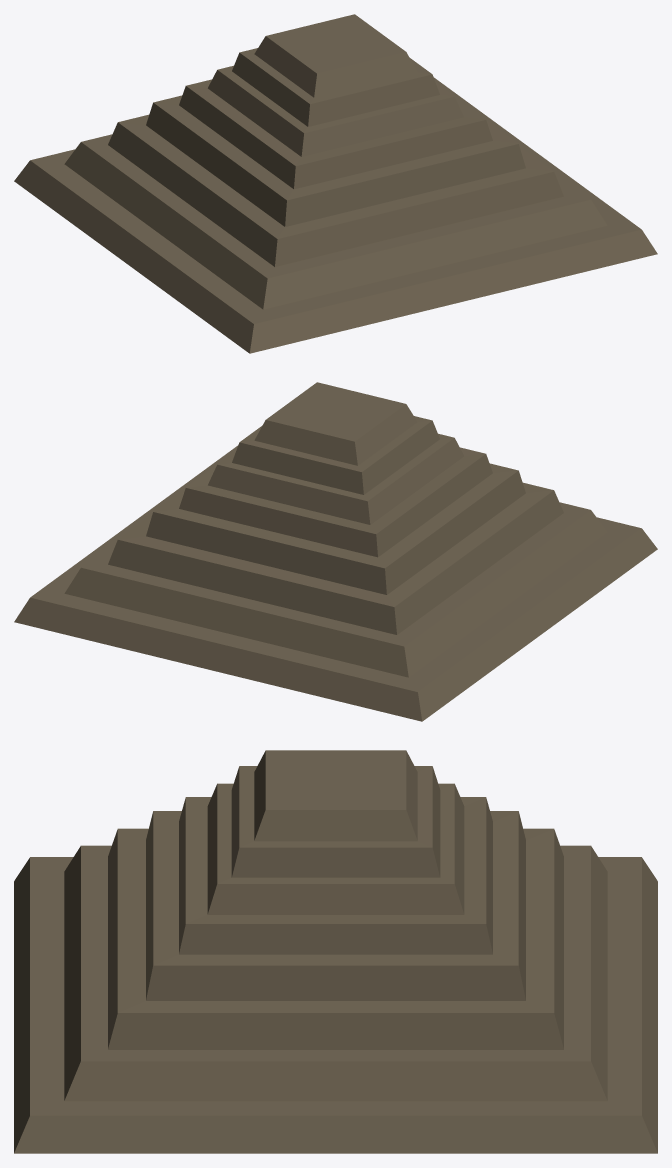
File: Tapnaktest2.fbx
The picture shows the model from 3 angles, top to bottom: view 1: azimuth 30°, elevation 25°; view 2: azimuth 150°, elevation 25°; view 3: azimuth 270°, elevation 25°; orthographic projection. The views are drawn at different scales.
Parts seen in each view (by area): view 1: Cube; view 2: Cube; view 3: Cube.
Boxes of the visible parts, <box> form: Cube: <box>14,14,657,353</box>; Cube: <box>14,382,657,721</box>; Cube: <box>14,750,657,1153</box>.
Bounding box in the file's own units: 22.3 × 9.07 × 22.3.
